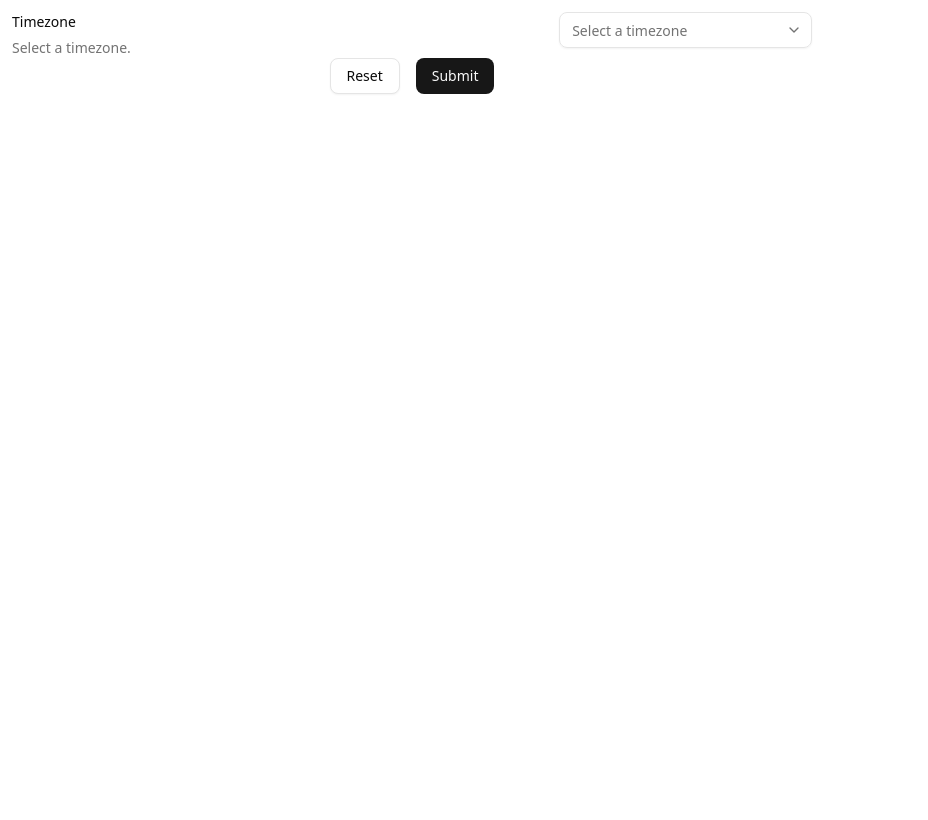
Settings › show error toast when server returns error
Note: fill form
Click the dropdown labelled "Timezone" at (671, 30), box top-left (560, 12), bottom-right (782, 48)
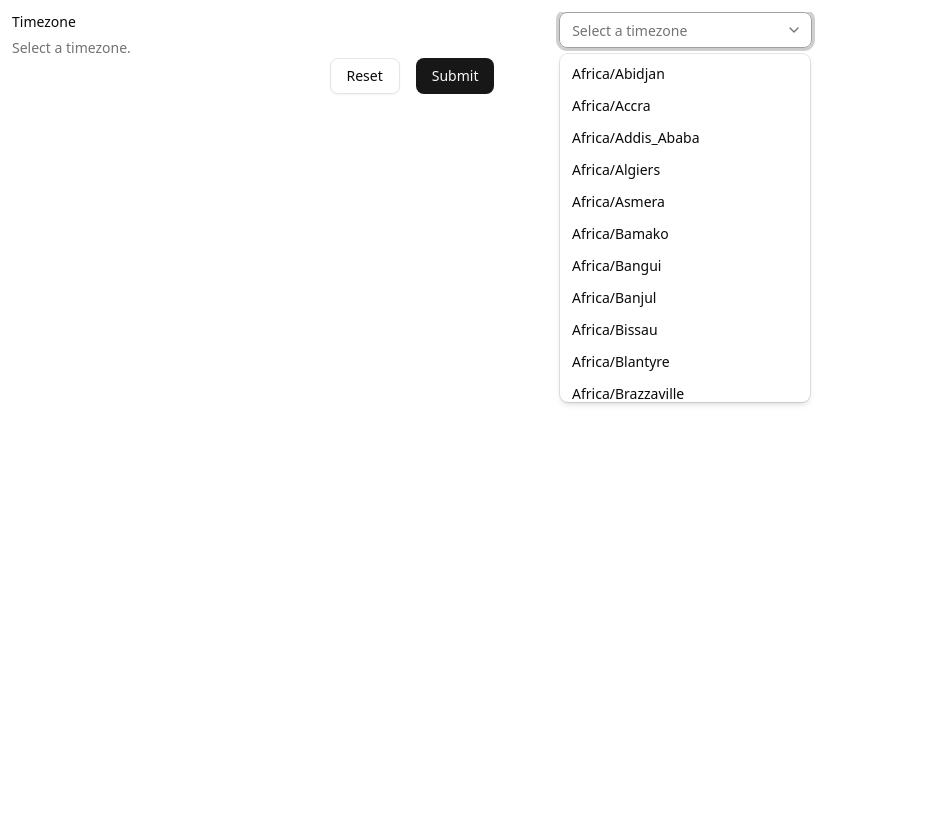
Click the option "Africa/Abidjan" at (618, 74), box top-left (572, 64), bottom-right (665, 83)
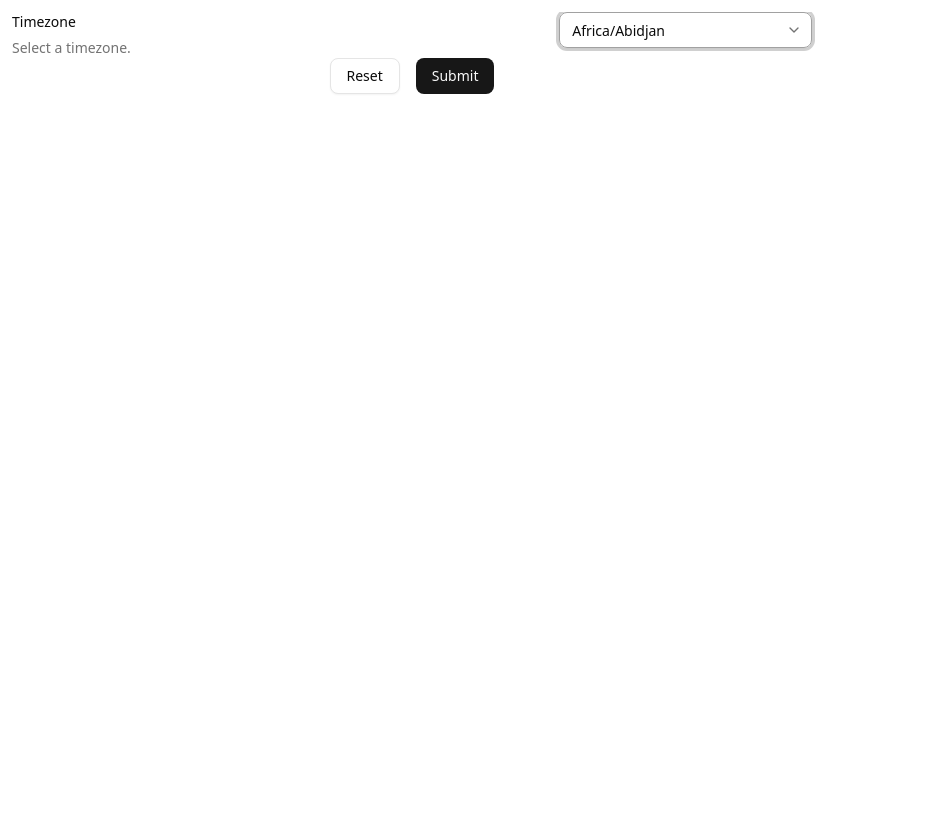
Click the button "Submit" at (455, 76), box top-left (416, 58), bottom-right (494, 94)
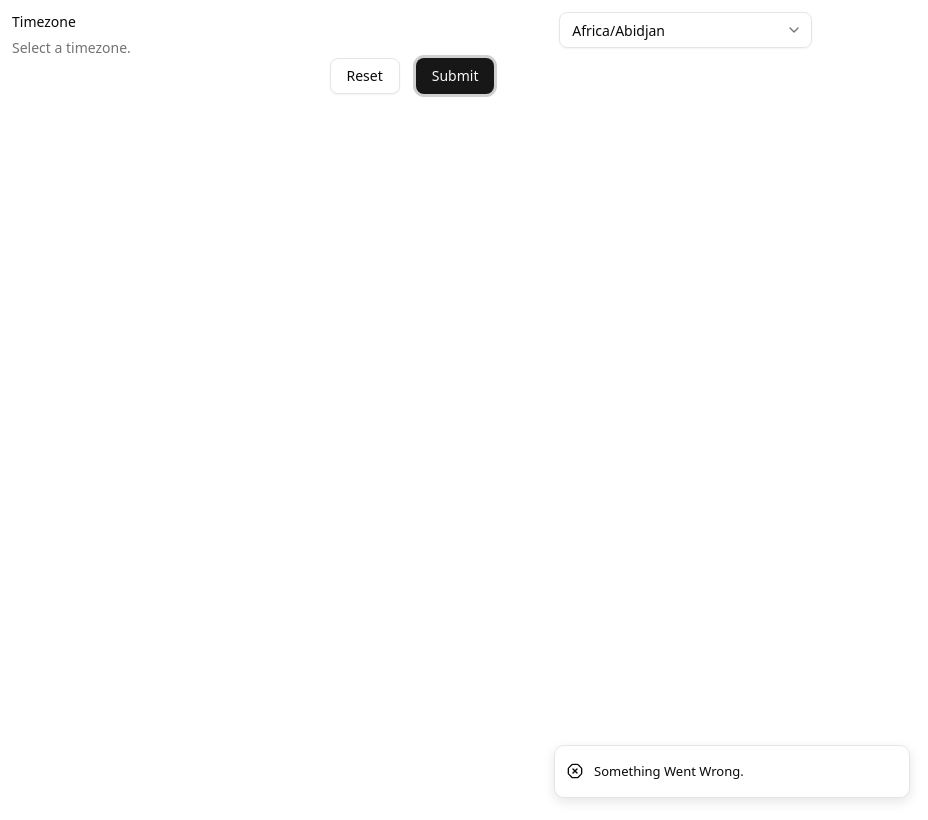
Check: the dropdown labelled "Timezone" holds "Africa/Abidjan", box top-left (560, 12), bottom-right (782, 48)
Check: the text "Something Went Wrong." is shown, box top-left (594, 762), bottom-right (744, 781)
